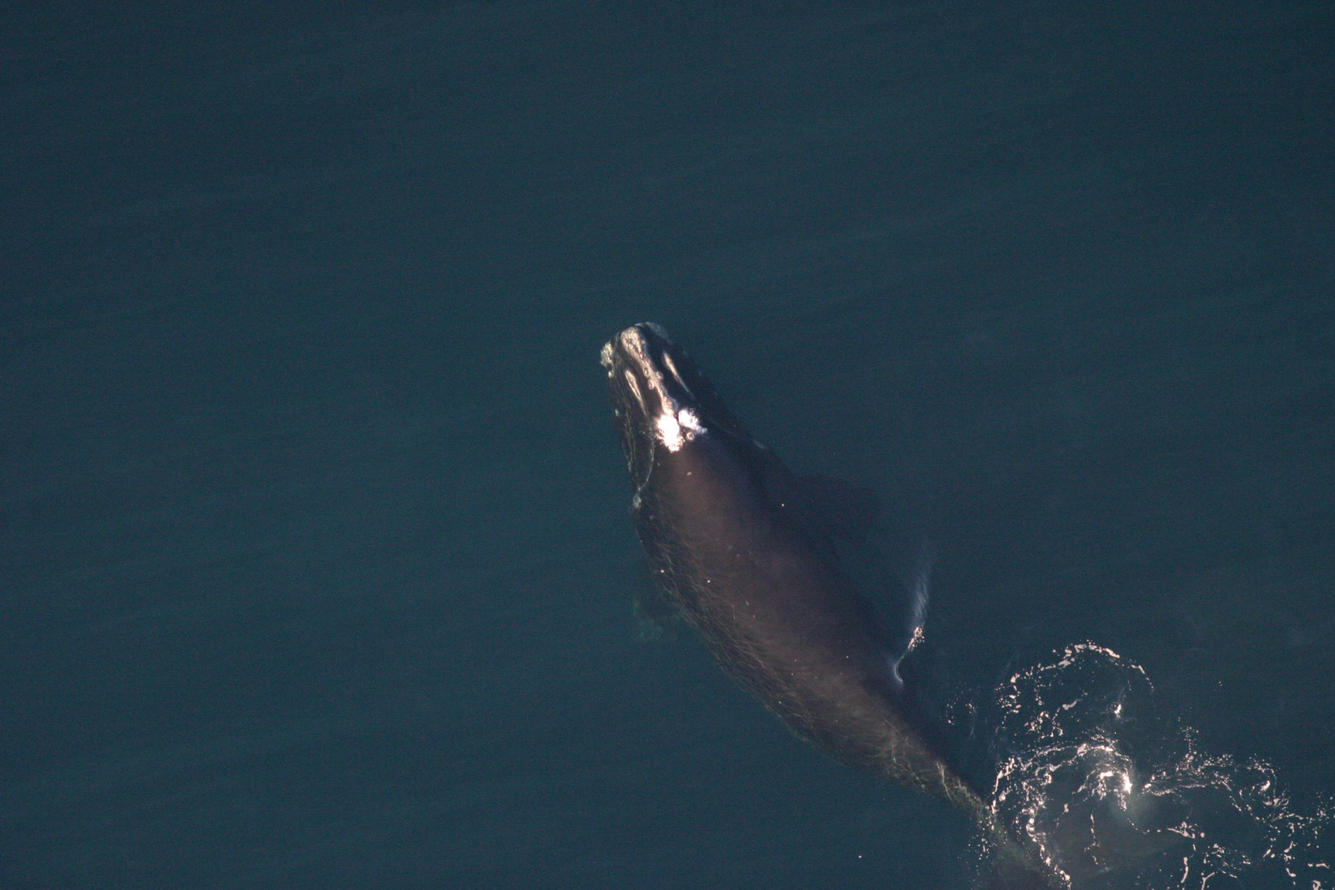whale: (594, 316, 1220, 890)
